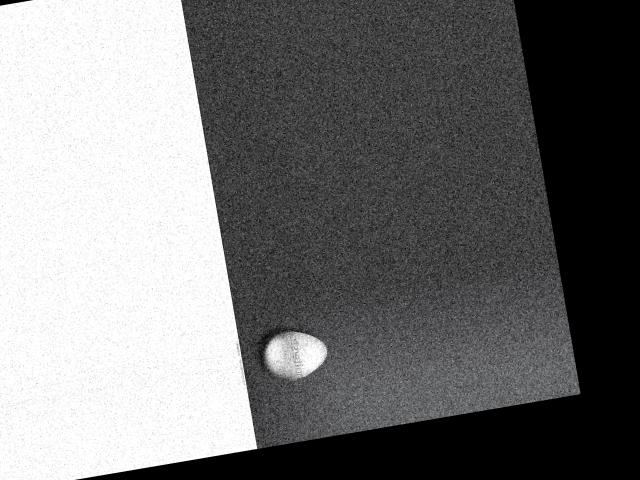egg: (260, 324, 332, 384)
